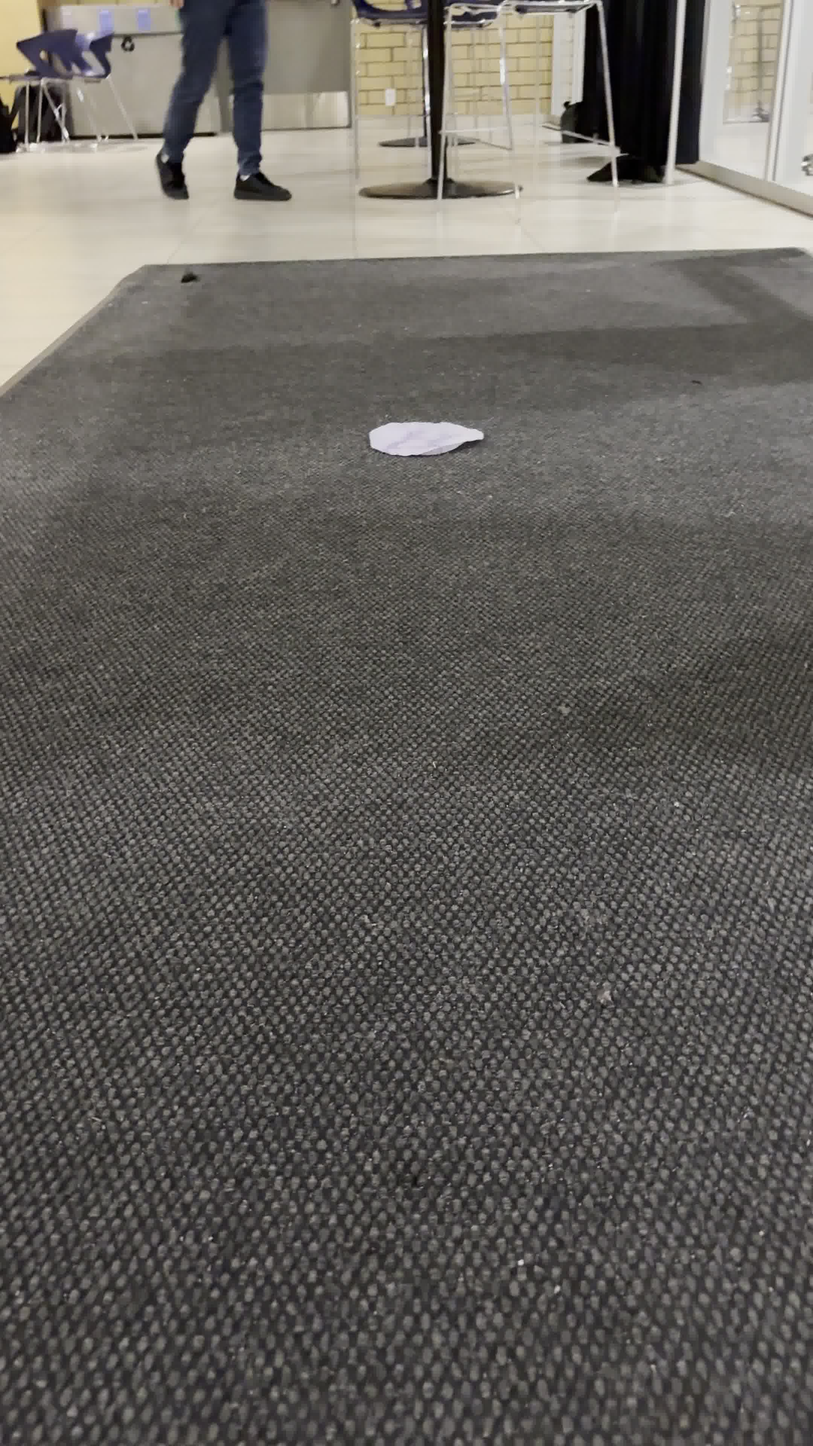Target: (363, 416, 490, 461)
